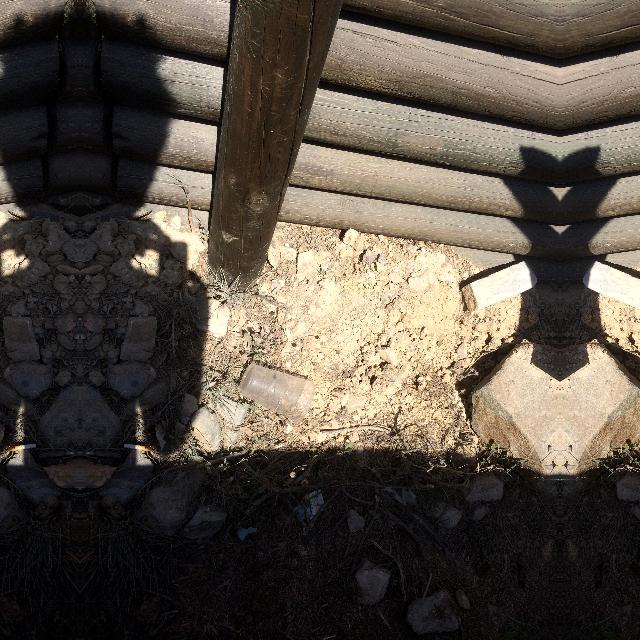Plastic: (236, 358, 324, 430)
